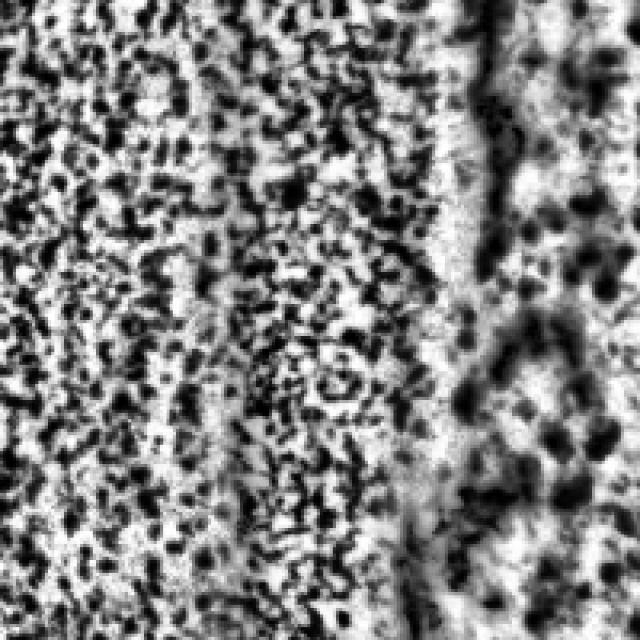Rolled_in_Scale: (0, 0, 397, 630), (419, 0, 637, 621)
Scratches: (388, 483, 518, 637)
